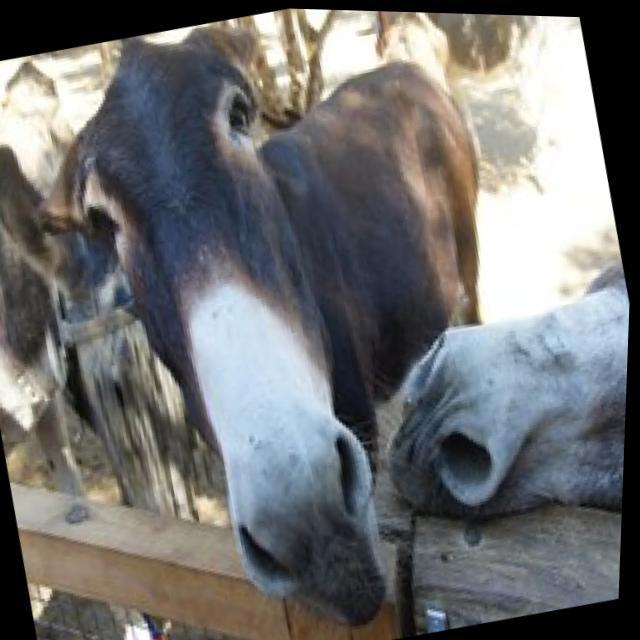Donkey: (0, 0, 424, 640), (236, 39, 544, 485), (351, 242, 633, 634), (0, 47, 160, 535)
